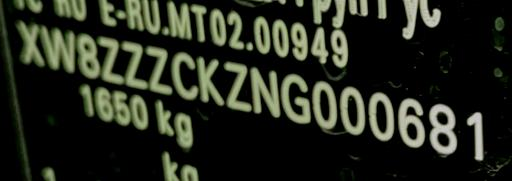letter: (248, 62, 284, 127), (424, 100, 462, 157), (280, 68, 312, 131), (336, 82, 368, 145), (396, 94, 430, 153), (220, 57, 252, 116), (309, 75, 341, 132), (462, 105, 494, 162), (118, 34, 150, 91), (364, 88, 398, 141), (143, 42, 175, 97), (42, 25, 76, 75), (11, 16, 43, 68), (196, 51, 224, 110), (94, 33, 124, 85), (170, 48, 198, 103), (76, 29, 102, 83)
